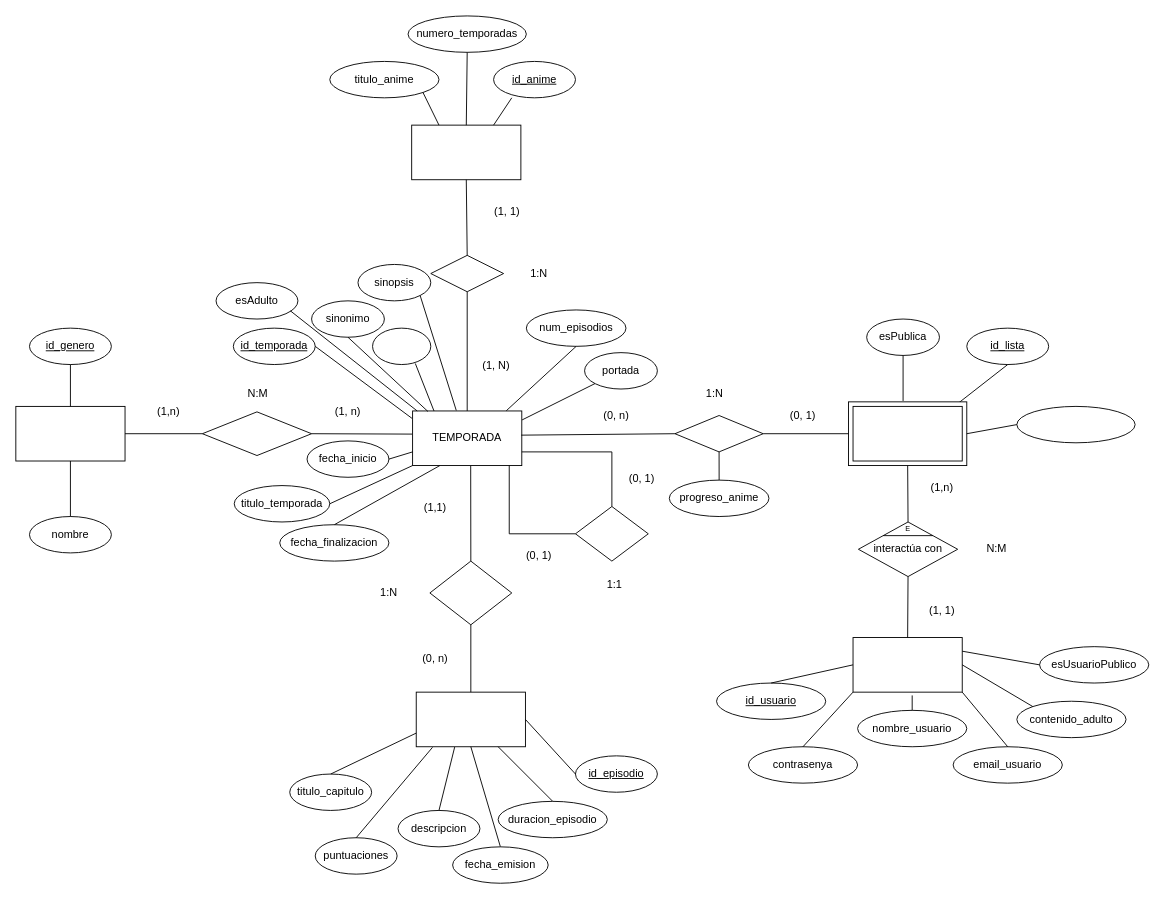
The diagram is 1165 pixels wide and 900 high, and some of its shapes have lost their labels. The centre of each missing label's shape, as x and y in pixels:
ANIME: point (466, 152)
compuesta por: point (470, 592)
contiene: point (718, 433)
EPISODIOS: point (470, 719)
es secuela: point (611, 533)
estado: point (401, 346)
estado_visualizacion: point (1075, 424)
GENERO: point (70, 433)
LISTA: point (907, 433)
se clasifica por: point (256, 433)
tiene: point (467, 273)
USUARIO: point (907, 664)
